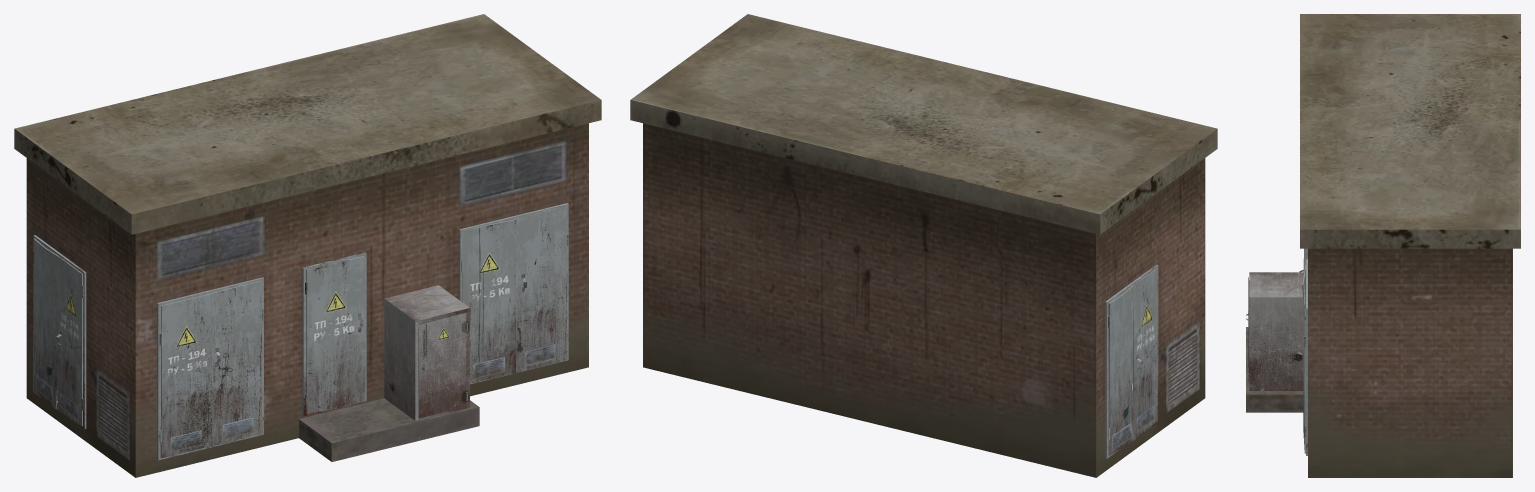
File: transformer-booth.lod0.glb
3 renders of one model, left to right at view 1: azimuth 30°, elevation 25°; view 2: azimuth 150°, elevation 25°; view 3: azimuth 270°, elevation 25°, orthographic. The views are drawn at different scales.
Visible parts, largest first — view 1: transform_low_brick_0, transform_low_metal_0; view 2: transform_low_brick_0, transform_low_metal_0; view 3: transform_low_brick_0, transform_low_metal_0.
Boxes of the visible parts, bbox=[...] form: transform_low_brick_0: bbox=[14, 14, 601, 477]; transform_low_metal_0: bbox=[33, 203, 568, 460]; transform_low_brick_0: bbox=[630, 14, 1217, 477]; transform_low_metal_0: bbox=[1105, 264, 1158, 458]; transform_low_brick_0: bbox=[1246, 14, 1520, 477]; transform_low_metal_0: bbox=[1246, 248, 1307, 455].
Size of the model in its own units: 8 by 4.37 by 4.31.
Materials: 2 (2 with a texture image).
